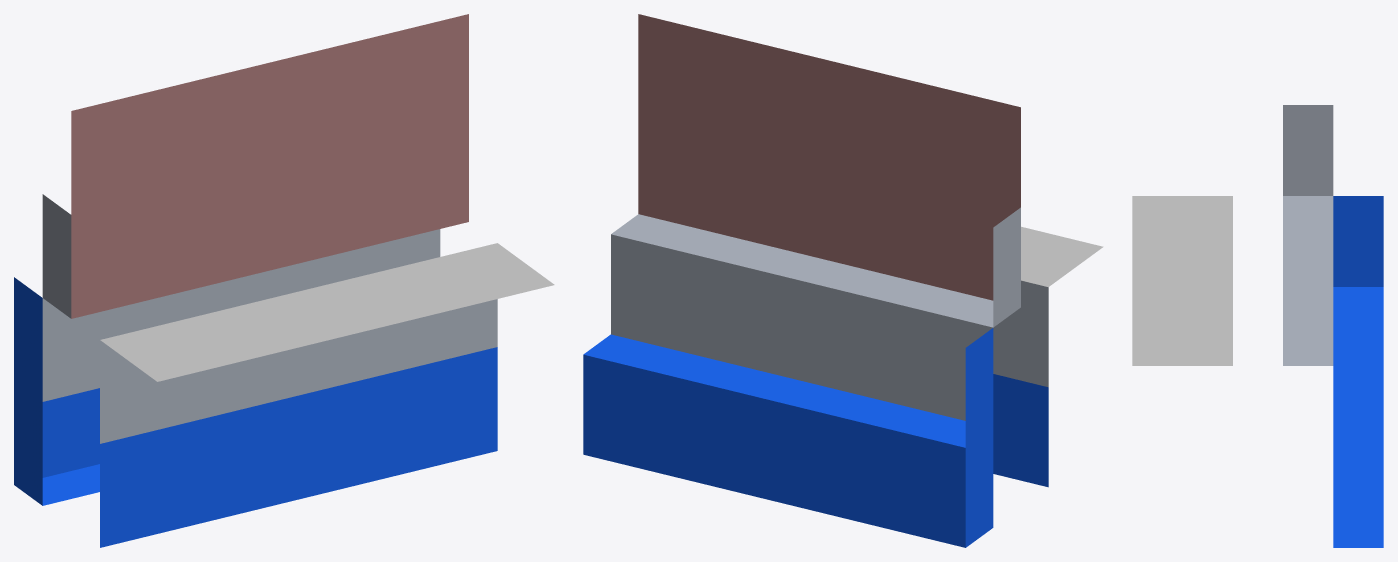
File: cell_170.obj
3 views of the same model, side by side, from view 1: azimuth 30°, elevation 25°; view 2: azimuth 150°, elevation 25°; view 3: azimuth 270°, elevation 25° (orthographic). The views are drawn at different scales.
Bounding box in the file's own units: 1 × 1 × 0.625.
